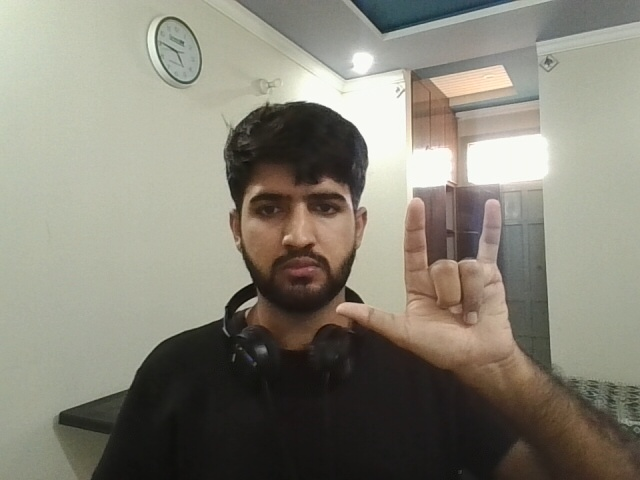I Love You: (332, 180, 538, 371)
